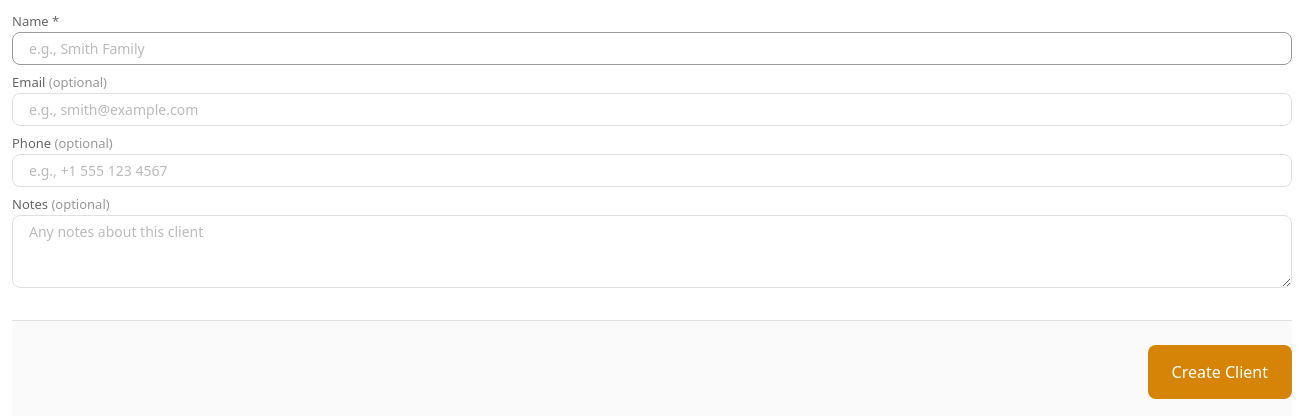
Test: CreateClient › shows loading state during submit
The width and height of the screenshot is (1304, 416).
Step 1. Type "Alice Smith" into the field labelled "Name *" → (652, 48), box top-left (12, 32), bottom-right (1292, 65)
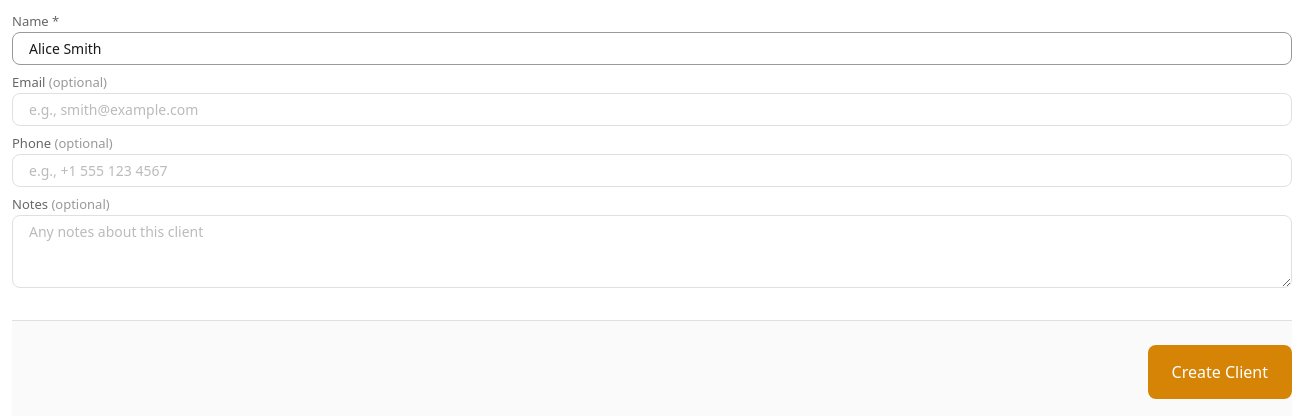
Step 2. Click the button "Create Client" → (1220, 372), box top-left (1148, 345), bottom-right (1292, 399)
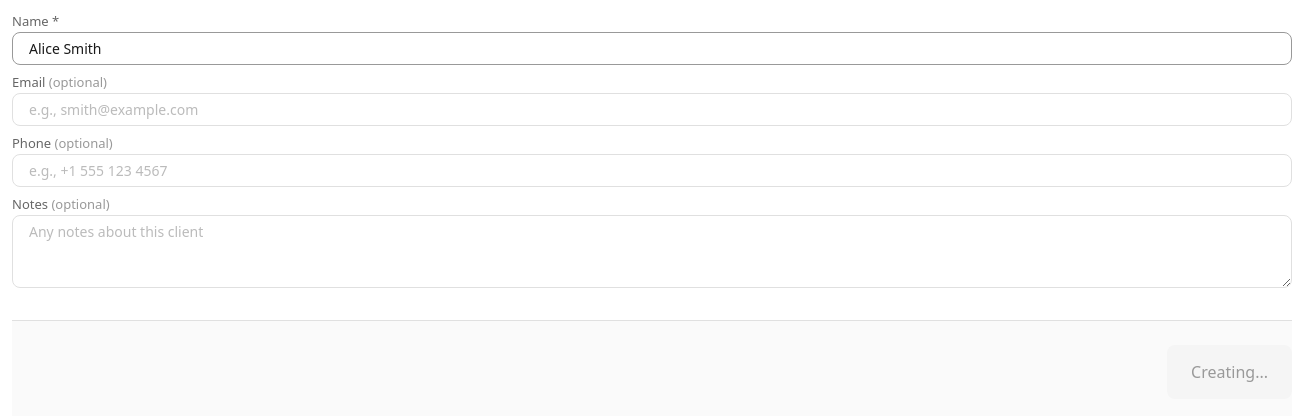
Result: the button "Creating..." is shown at top-left (1167, 345), bottom-right (1292, 399)
